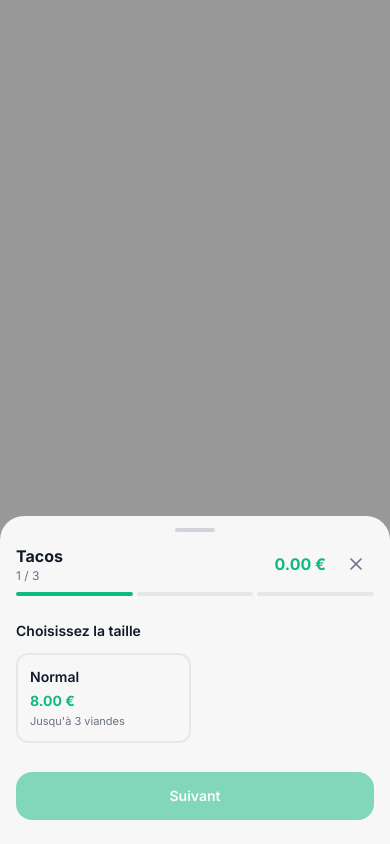
Test: customer meat counts and their canonical displayed prices › prevents a fourth different meat and cannot proceed with zero
Later steps or results of the test are not shown.
What coordinates should you click on to do the following:
click the button "Normal 8.00 € Jusqu'à 3 viandes"
I would click on:
 (104, 698)
Its box is [16,652,191,743].
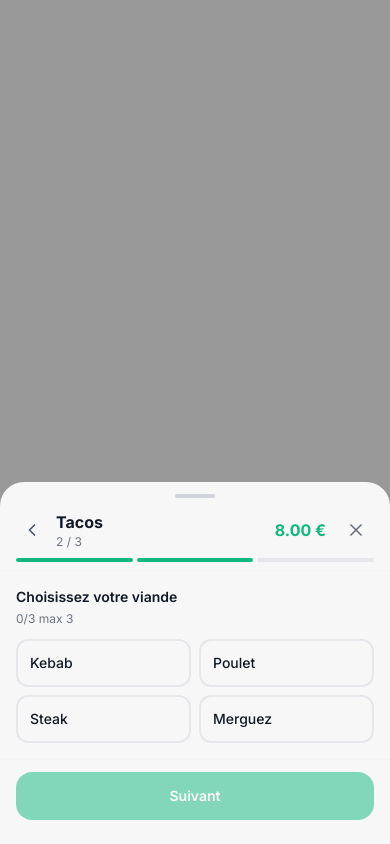
Expected: the button with test id "customizer-next" is disabled, [16,772,374,820]
What coordinates should you click on to do the following:
click the button "Kebab"
I would click on:
 (104, 663)
Its box is [16,639,191,687].
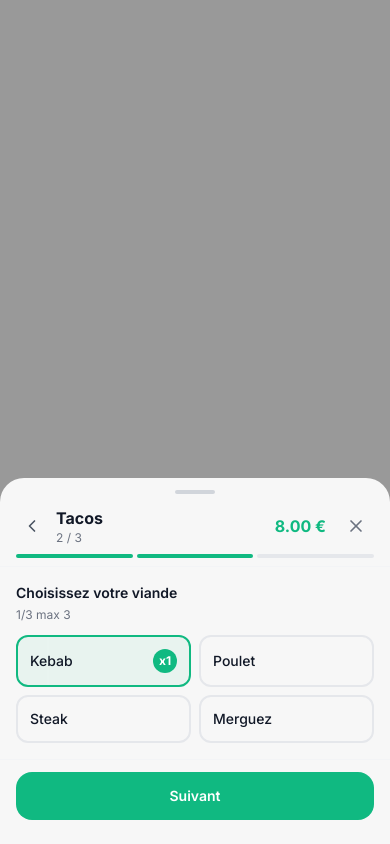
What coordinates should you click on to do the following:
click the button "Poulet"
I would click on:
 (286, 661)
Its box is [199,635,374,687].
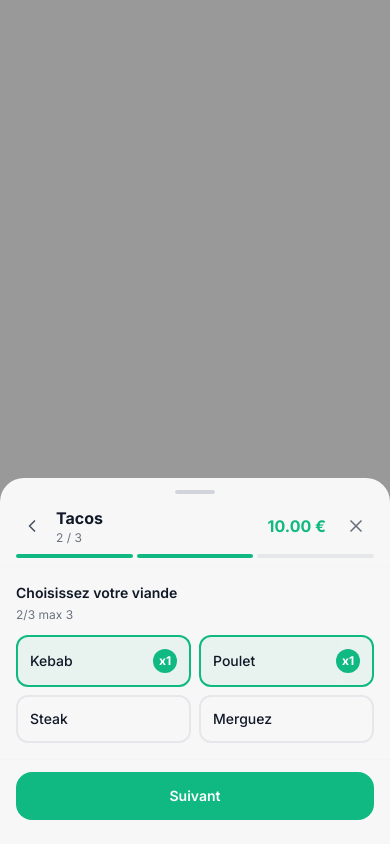
What coordinates should you click on to do the following:
click the button "Steak"
I would click on:
 (104, 719)
Its box is [16,695,191,743].
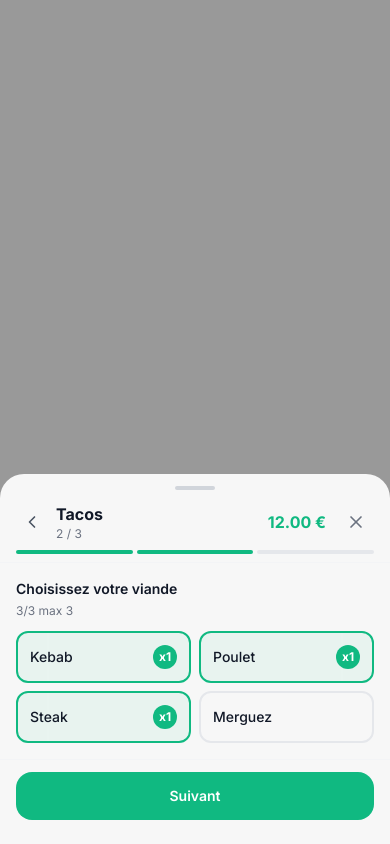
What coordinates should you click on to do the following:
click the button "Merguez"
I would click on:
 (286, 717)
Its box is [199,691,374,743].
Result: the button with test id "customizer-next" is enabled at [16,772,374,820]
